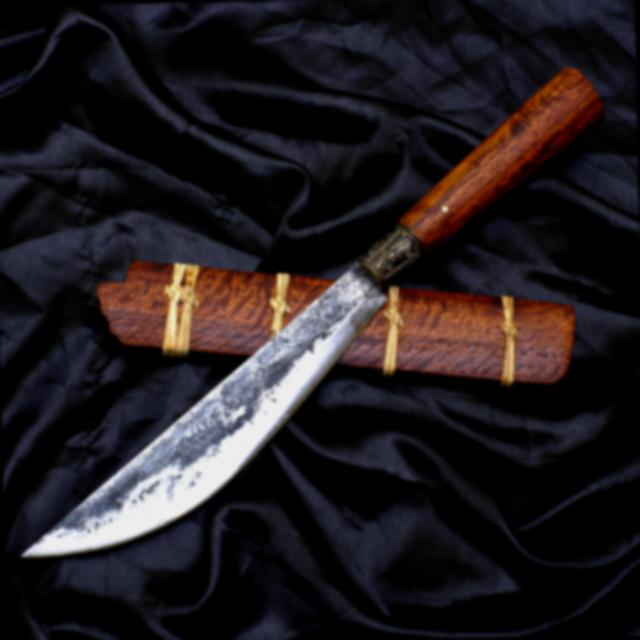short sword: (6, 66, 626, 566)
